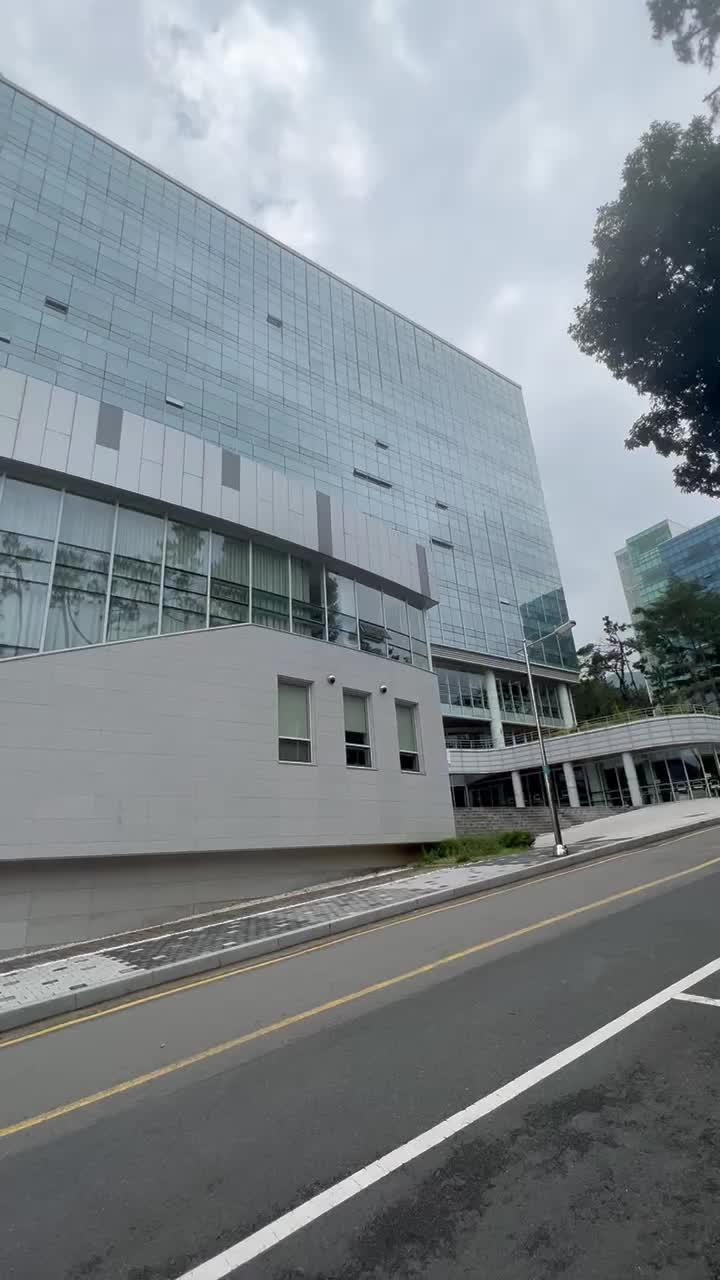building: (26, 156, 574, 854)
